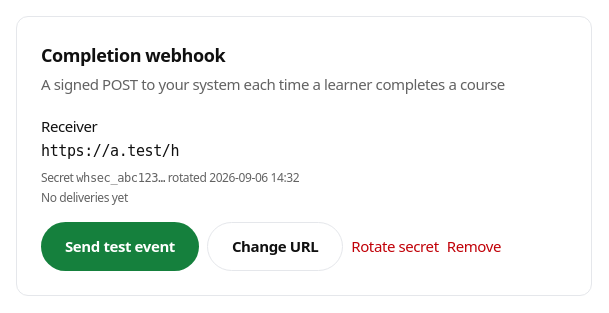
it: TenantWebhookCard › queues a test event and says so
The width and height of the screenshot is (609, 313).
Click the button "Send test event".
click(120, 246)  # box [41,222,199,271]
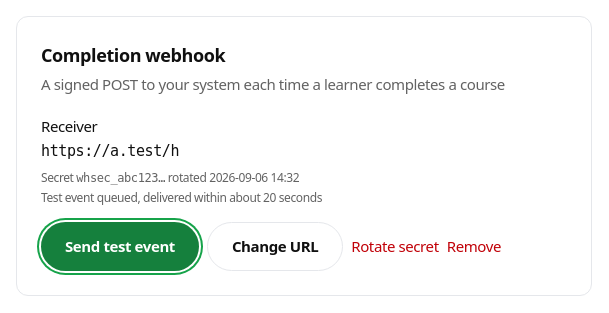
expect the text with test id "webhook-delivery" shows "Test event queued": met, box [41,189,322,206]
